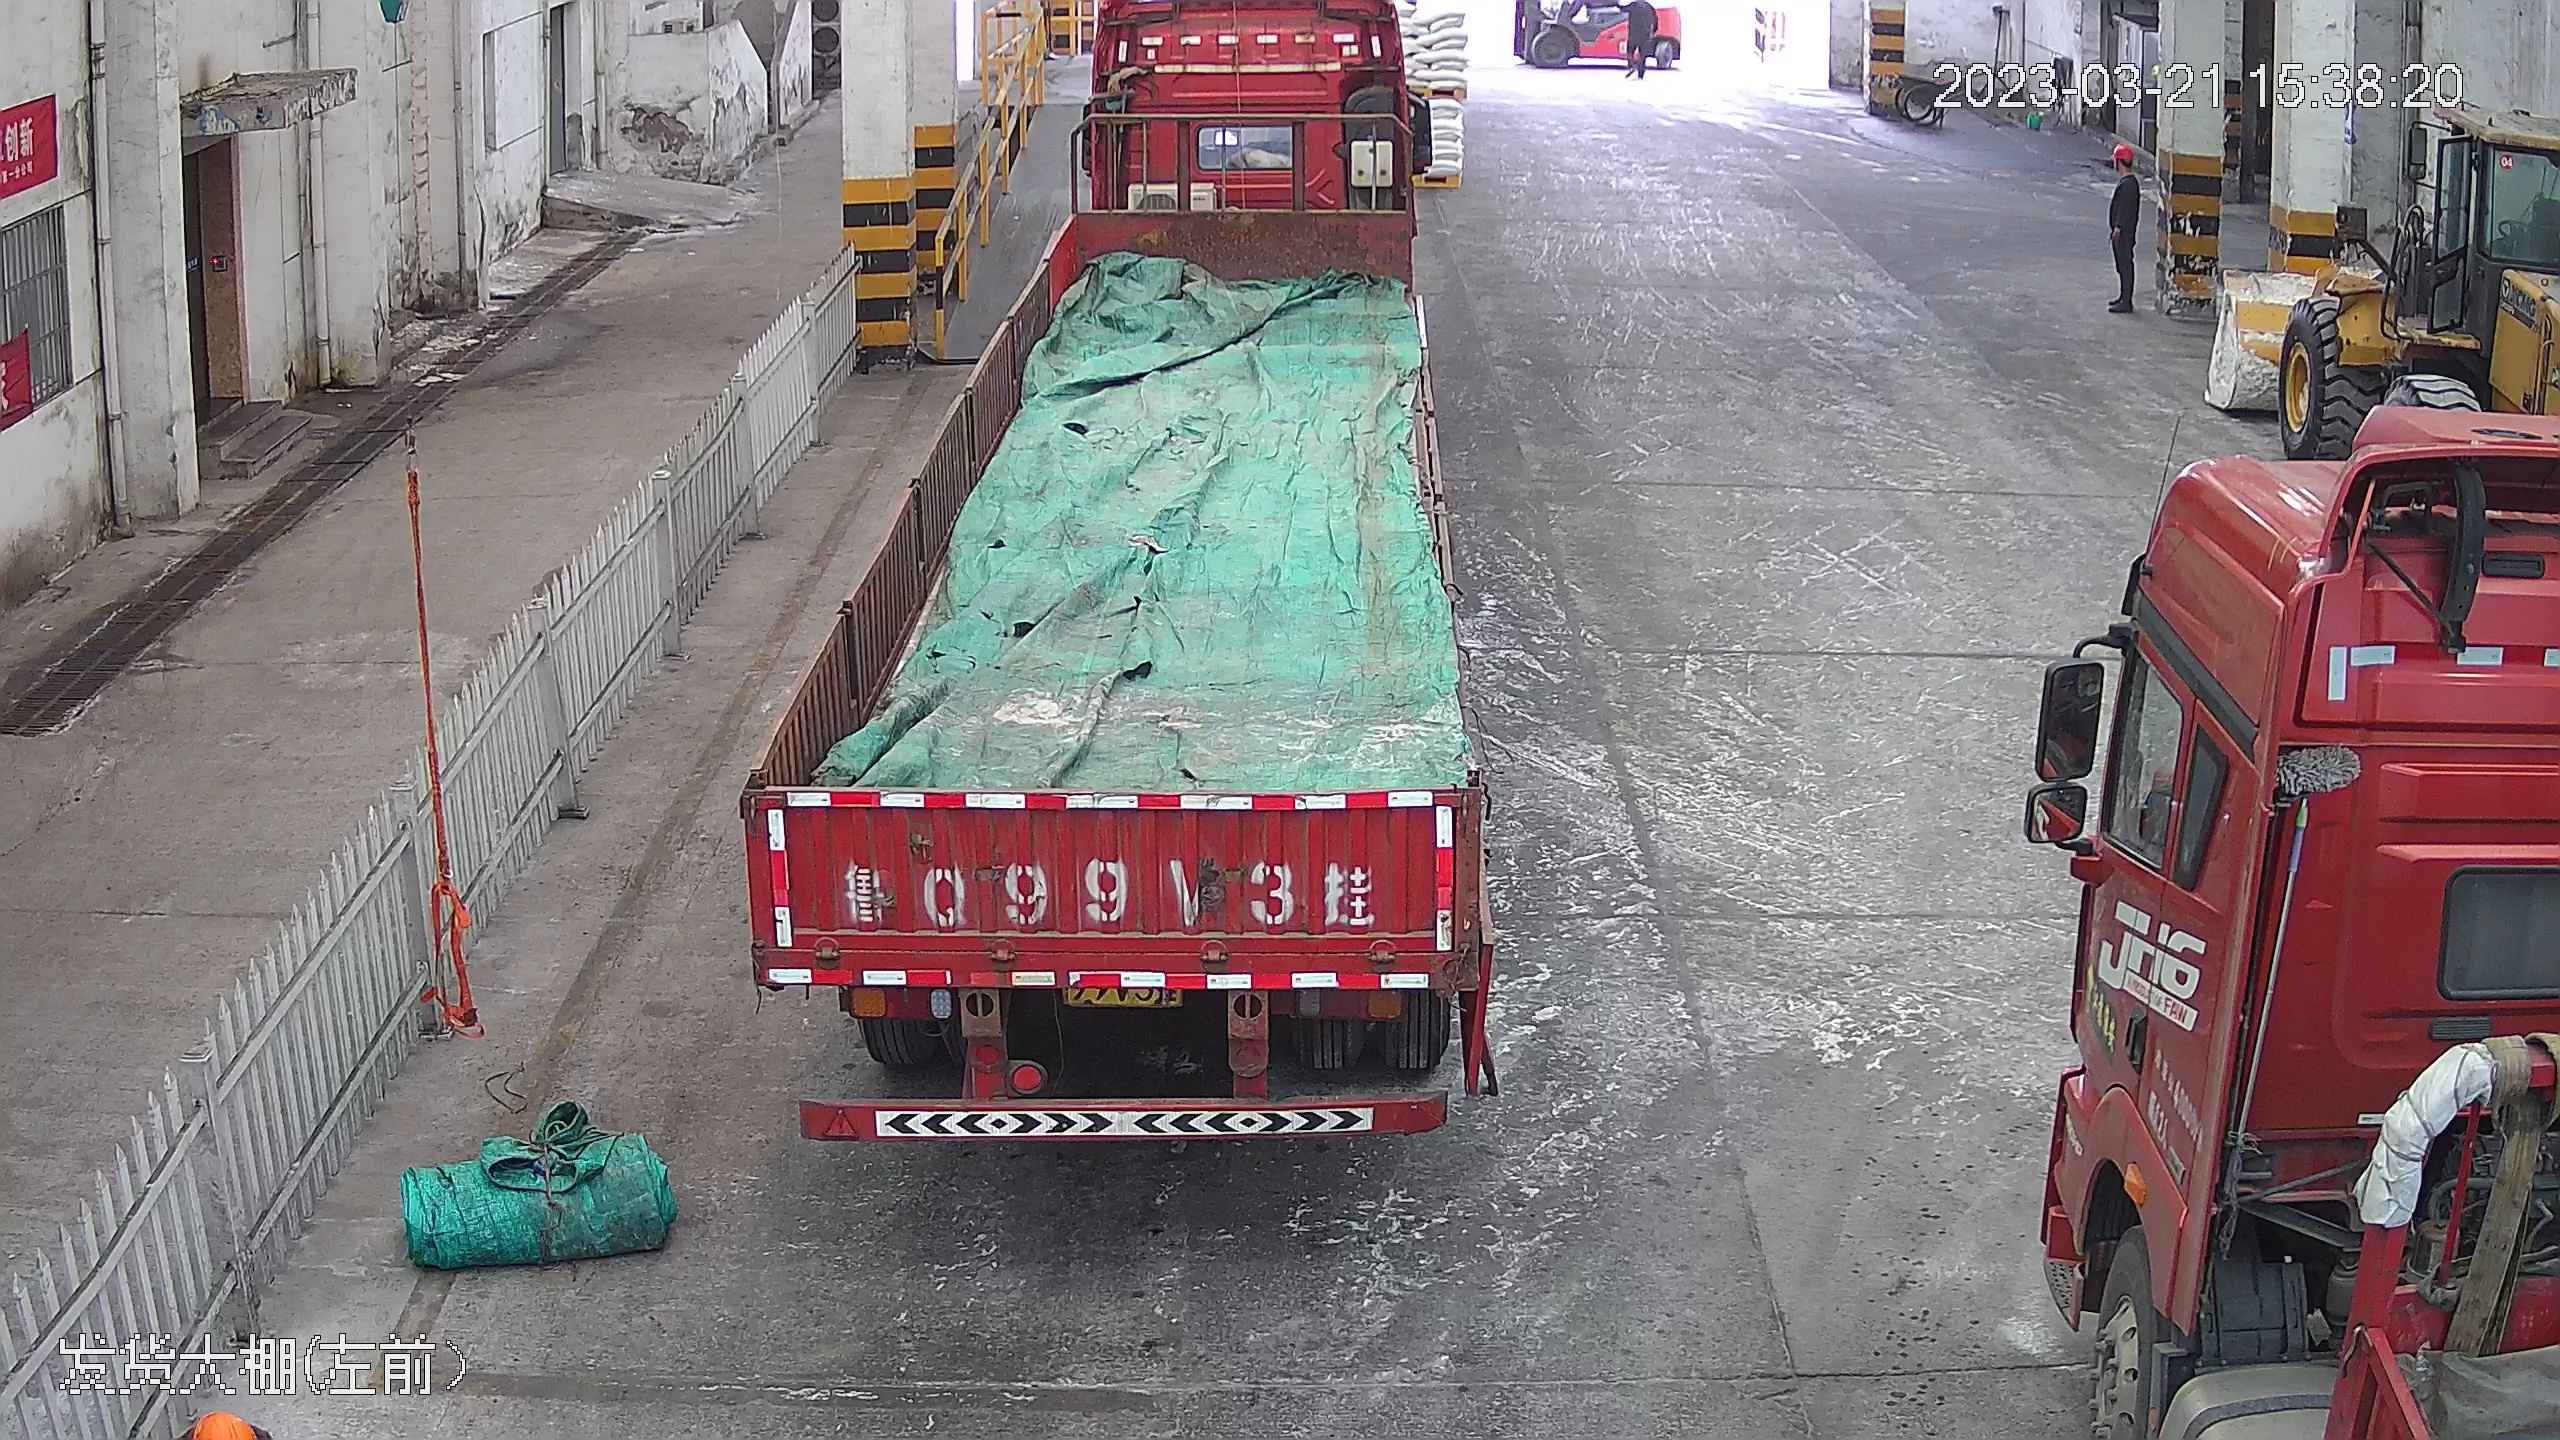head: (2107, 140, 2146, 194)
helmet: (2112, 142, 2135, 162)
people: (2100, 139, 2149, 316)
truck: (745, 0, 1489, 1147), (2022, 380, 2560, 1440)
